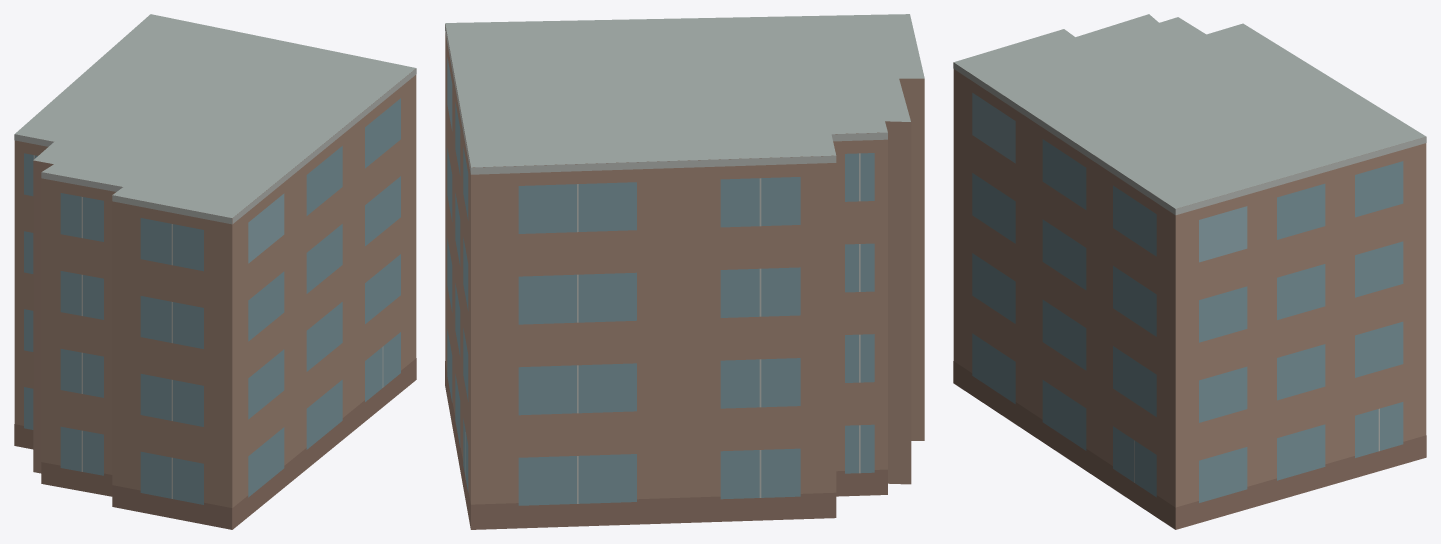
The model's file is survey-upis-32938366.glb.
3 renders of one model, left to right at view 1: azimuth 30°, elevation 25°; view 2: azimuth 150°, elevation 25°; view 3: azimuth 270°, elevation 25°, orthographic. The views are drawn at different scales.
Visible parts, largest first — view 1: survey-upis-32938366.tmp; view 2: survey-upis-32938366.tmp; view 3: survey-upis-32938366.tmp.
Part boxes in pixels (bbox=[...]): survey-upis-32938366.tmp: bbox=[14, 14, 416, 529]; survey-upis-32938366.tmp: bbox=[445, 14, 924, 529]; survey-upis-32938366.tmp: bbox=[953, 14, 1426, 529].
Bounding box in the file's own units: 15.9 × 12.2 × 16.3.
